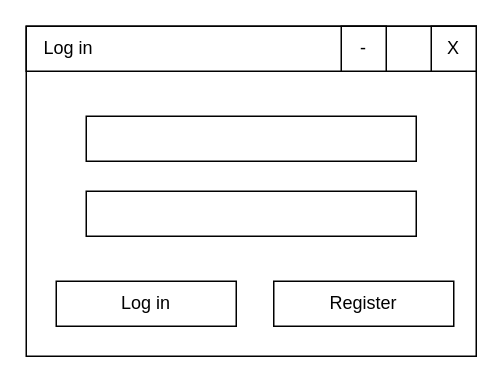
This 503x383 diagram has some shape labels left out. The box of each missing label's shape, as (x1, y1, x2, y2) in pixels:
Password: (85, 190, 416, 236)
Username: (85, 115, 416, 161)
